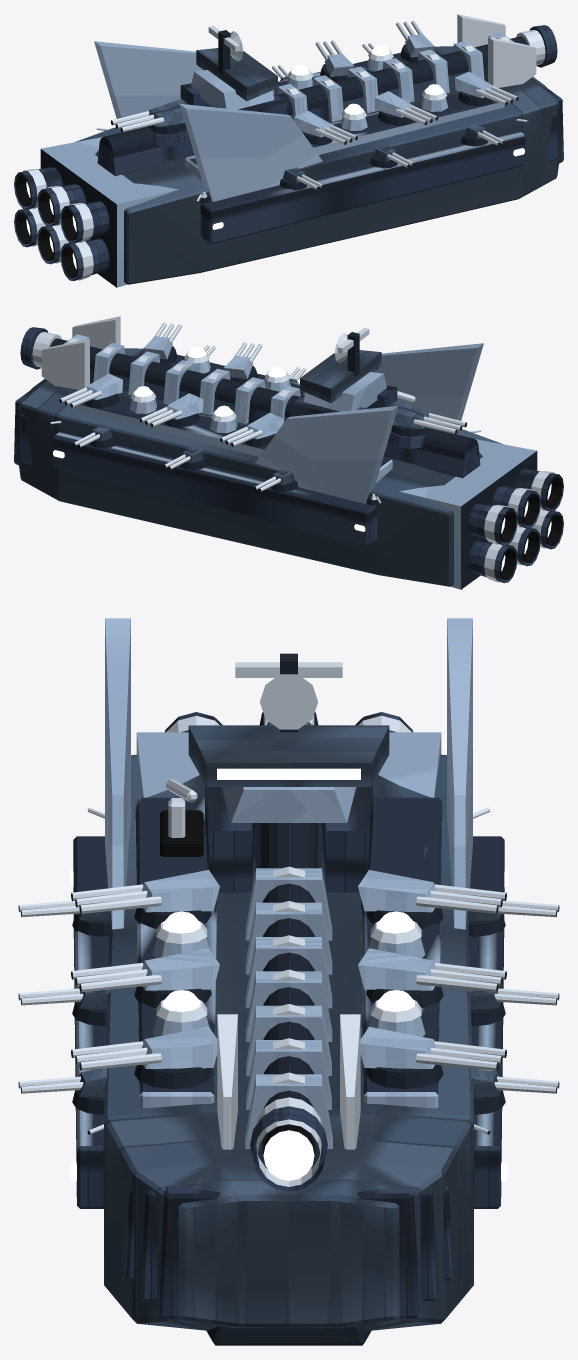
The model's file is battleship.glb.
3 renders of one model, top to bottom at view 1: azimuth 30°, elevation 25°; view 2: azimuth 150°, elevation 25°; view 3: azimuth 270°, elevation 25°, orthographic. The views are drawn at different scales.
Visible parts, largest first — view 1: hull_body, weapon_mounts, engine_block, sensor_tower, shield_domes; view 2: hull_body, weapon_mounts, engine_block, sensor_tower, shield_domes; view 3: hull_body, weapon_mounts, sensor_tower, shield_domes, engine_block.
Part boxes in pixels (x1,y1,x2,y2): hull_body: (75, 14, 563, 284); weapon_mounts: (96, 20, 557, 203); engine_block: (14, 137, 178, 287); sensor_tower: (180, 25, 286, 114); shield_domes: (287, 45, 448, 130); hull_body: (14, 316, 502, 586); weapon_mounts: (20, 322, 481, 505); engine_block: (399, 439, 563, 589); sensor_tower: (291, 327, 397, 416); shield_domes: (129, 347, 290, 432); hull_body: (69, 618, 508, 1345); weapon_mounts: (18, 712, 559, 1191); sensor_tower: (188, 653, 389, 892); shield_domes: (152, 911, 425, 1036); engine_block: (136, 712, 441, 797).
Bounding box in the file's own units: 60 × 22.66 × 27.98.
Materials: 1 (1 with a texture image).
